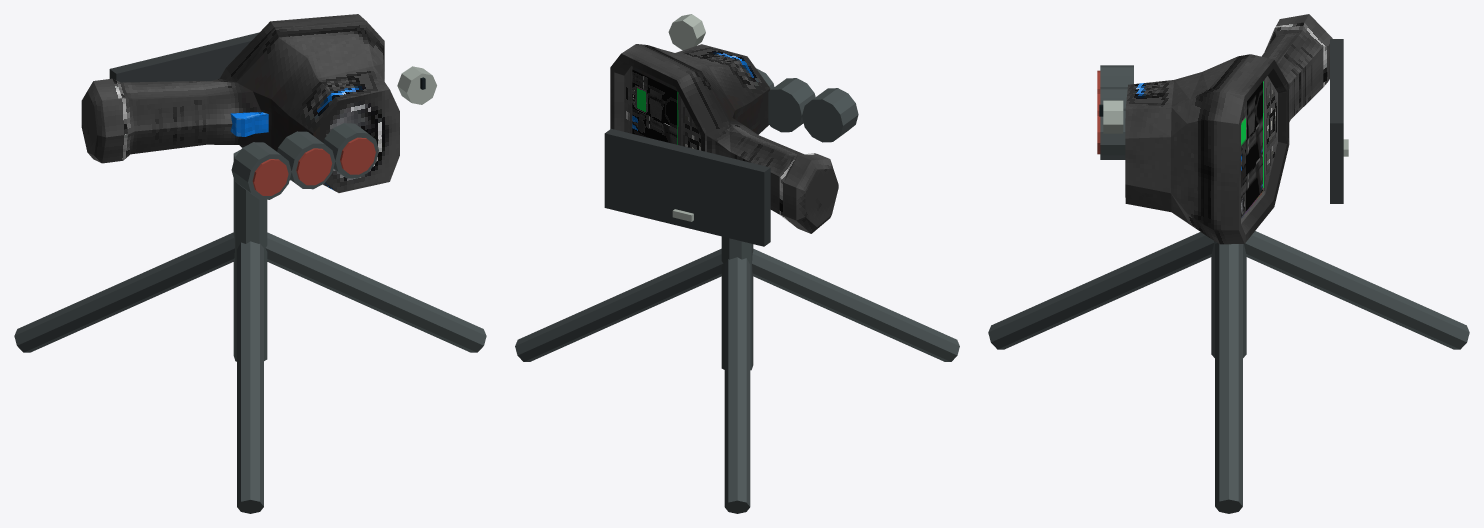
File: blender_laser_grid_2_deployed.glb
3 renders of one model, left to right at view 1: azimuth 30°, elevation 25°; view 2: azimuth 150°, elevation 25°; view 3: azimuth 270°, elevation 25°, orthographic. The views are drawn at different scales.
Visible parts, largest first — view 1: blender_laser_grid_2_deployed; view 2: blender_laser_grid_2_deployed; view 3: blender_laser_grid_2_deployed.
Boxes of the visible parts, <box> form: blender_laser_grid_2_deployed: <box>14,14,486,513</box>; blender_laser_grid_2_deployed: <box>515,14,959,513</box>; blender_laser_grid_2_deployed: <box>988,14,1469,513</box>.
Bounding box in the file's own units: 0.2164 × 0.2053 × 0.2435.
1 material, 1 textured.
